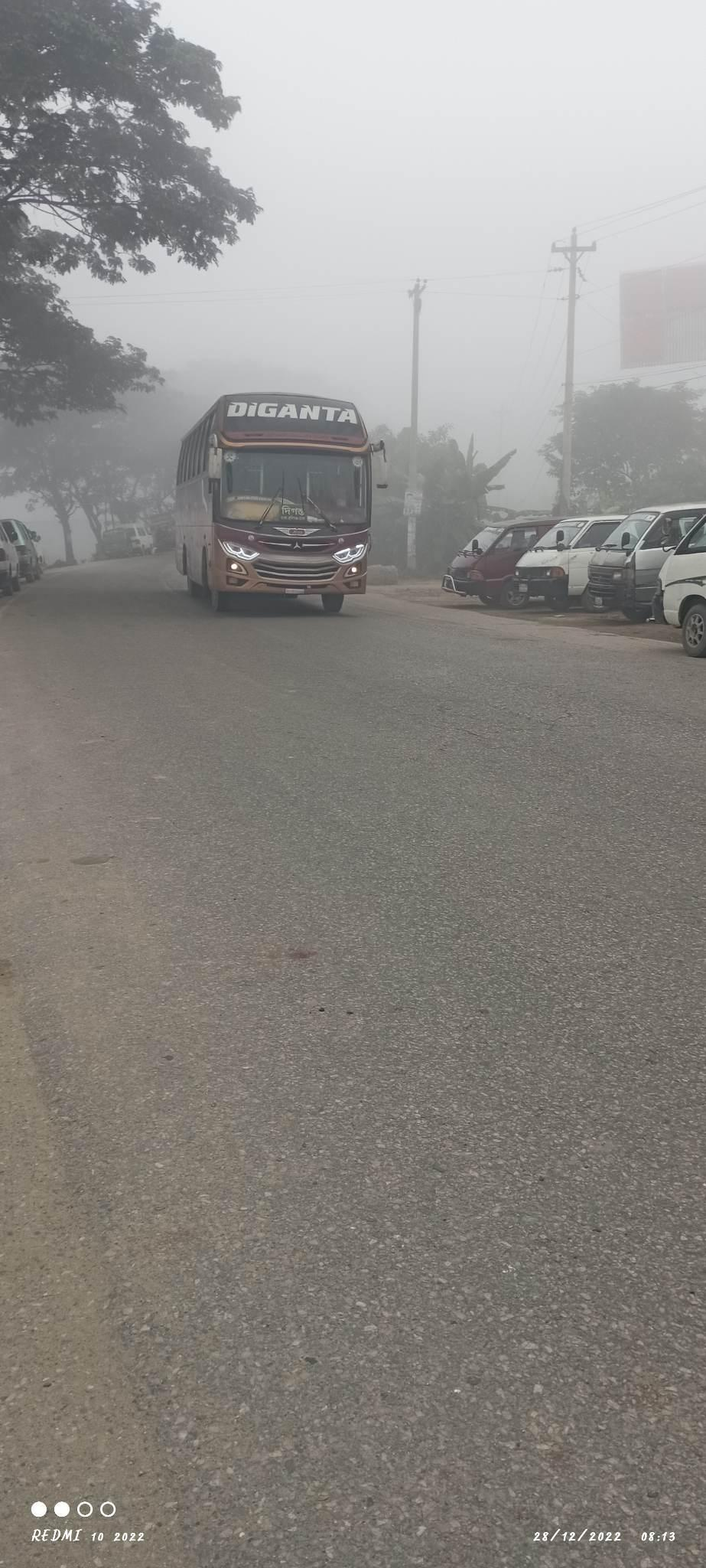Bus: (156, 370, 397, 631)
Car: (519, 479, 621, 627), (438, 461, 537, 603)
